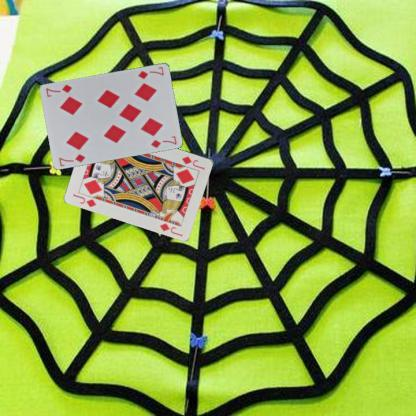7d: (136, 64, 165, 80), (57, 151, 86, 167)
Jd: (70, 191, 98, 209), (179, 153, 206, 171)
